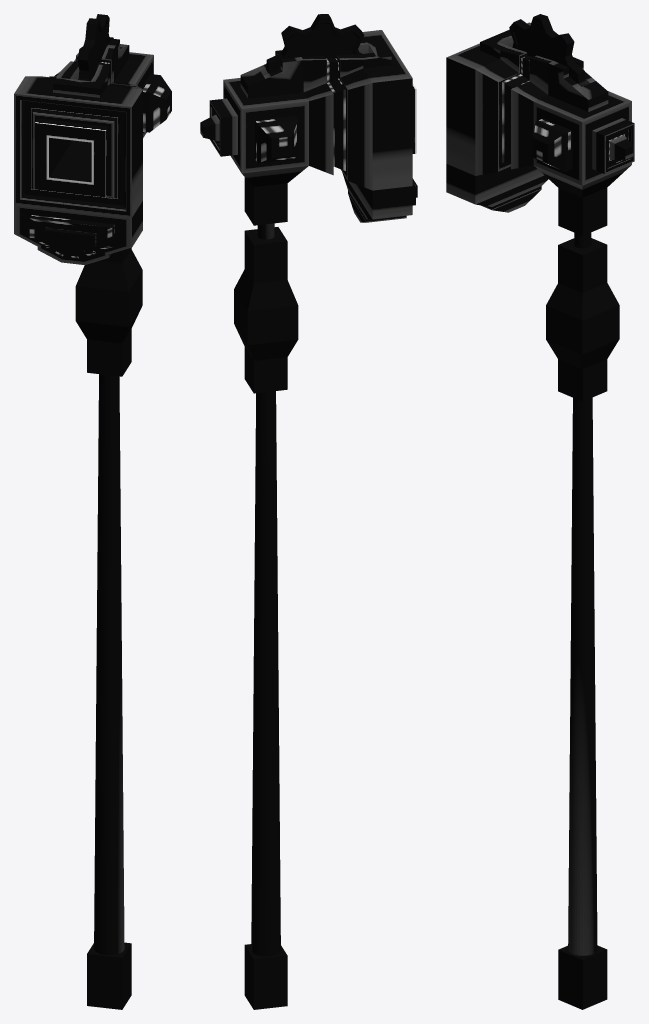
File: Dispenser_2_0.fbx
3 renders of one model, left to right at view 1: azimuth 30°, elevation 25°; view 2: azimuth 150°, elevation 25°; view 3: azimuth 270°, elevation 25°, orthographic. The views are drawn at different scales.
Parts seen in each view (by area): view 1: Dispenser, Dispenser_Prop_0, Dispenser_Prop_1, Gear; view 2: Dispenser, Dispenser_Prop_0, Dispenser_Prop_1, Gear; view 3: Dispenser, Dispenser_Prop_0, Dispenser_Prop_1, Gear.
Boxes of the visible parts, left/top/right/bottom form: Dispenser: left=14, top=38, right=171, bottom=264; Dispenser_Prop_0: left=87, top=374, right=131, bottom=1009; Dispenser_Prop_1: left=75, top=247, right=142, bottom=376; Gear: left=77, top=14, right=113, bottom=81; Dispenser: left=200, top=30, right=417, bottom=222; Dispenser_Prop_0: left=244, top=177, right=287, bottom=1009; Dispenser_Prop_1: left=234, top=227, right=298, bottom=393; Gear: left=266, top=14, right=364, bottom=73; Dispenser: left=446, top=22, right=634, bottom=212; Dispenser_Prop_0: left=558, top=188, right=607, bottom=1009; Dispenser_Prop_1: left=546, top=238, right=619, bottom=401; Gear: left=509, top=14, right=585, bottom=83.
Bounding box in the file's own units: 1.6 × 9.08 × 1.6.
1 material, 1 textured.
